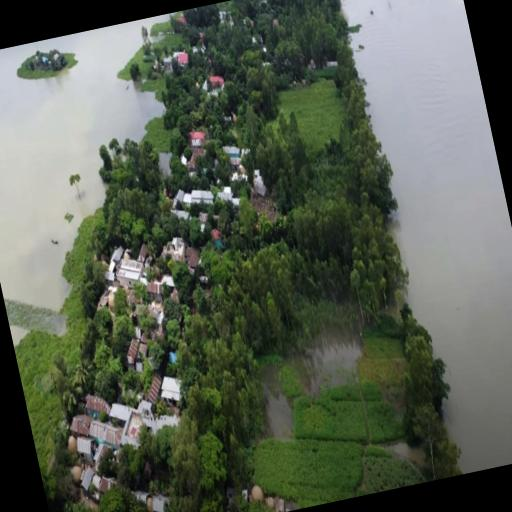flood: (345, 0, 512, 472), (0, 19, 151, 306), (284, 326, 362, 394), (262, 363, 293, 439)
house: (131, 480, 175, 512), (88, 416, 124, 452), (114, 252, 148, 290), (80, 387, 112, 424), (157, 366, 185, 406), (118, 406, 147, 444), (66, 410, 96, 442), (76, 464, 100, 503), (187, 182, 216, 214), (144, 372, 166, 406), (144, 278, 164, 306), (123, 335, 141, 366), (170, 234, 188, 262), (174, 48, 192, 74), (207, 70, 226, 94), (188, 128, 208, 148)
